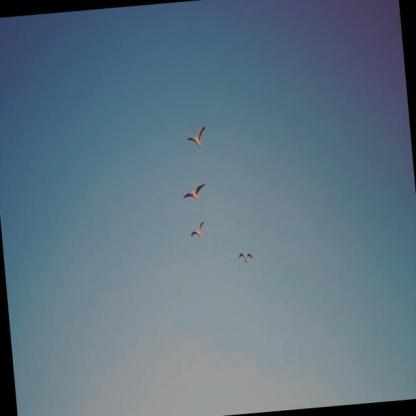bird: (181, 180, 209, 204), (186, 124, 209, 152), (190, 220, 207, 240), (238, 250, 254, 265)
